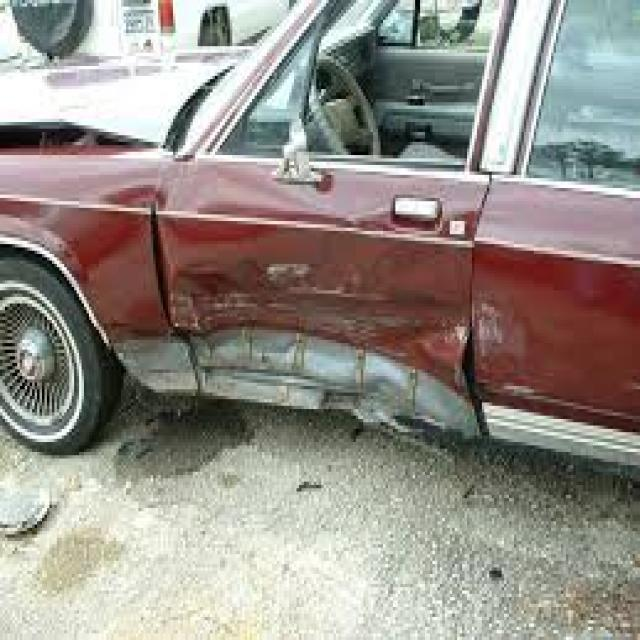moderate: (124, 169, 580, 473)
